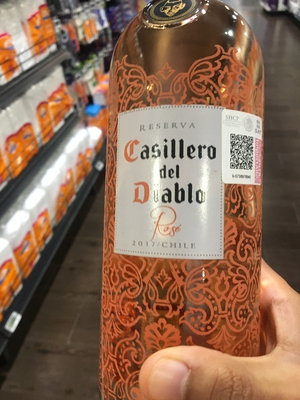casillero del diablo rose: (106, 7, 267, 400)
